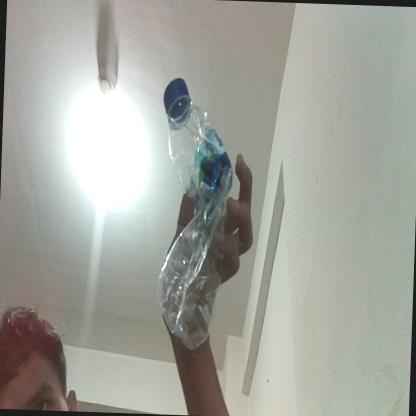plastic_bottles: (154, 77, 238, 358)
